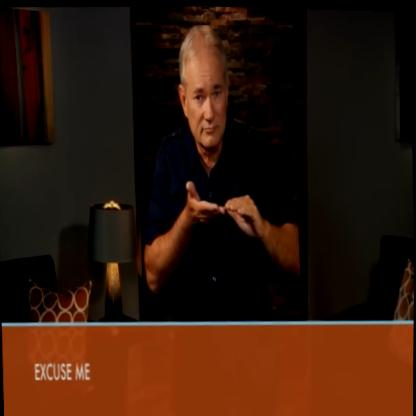ExcuseMe: (134, 20, 303, 319)
